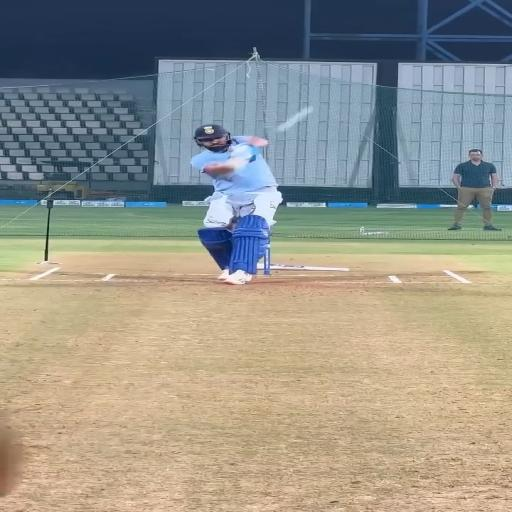Cricket bat: (214, 157, 248, 173)
